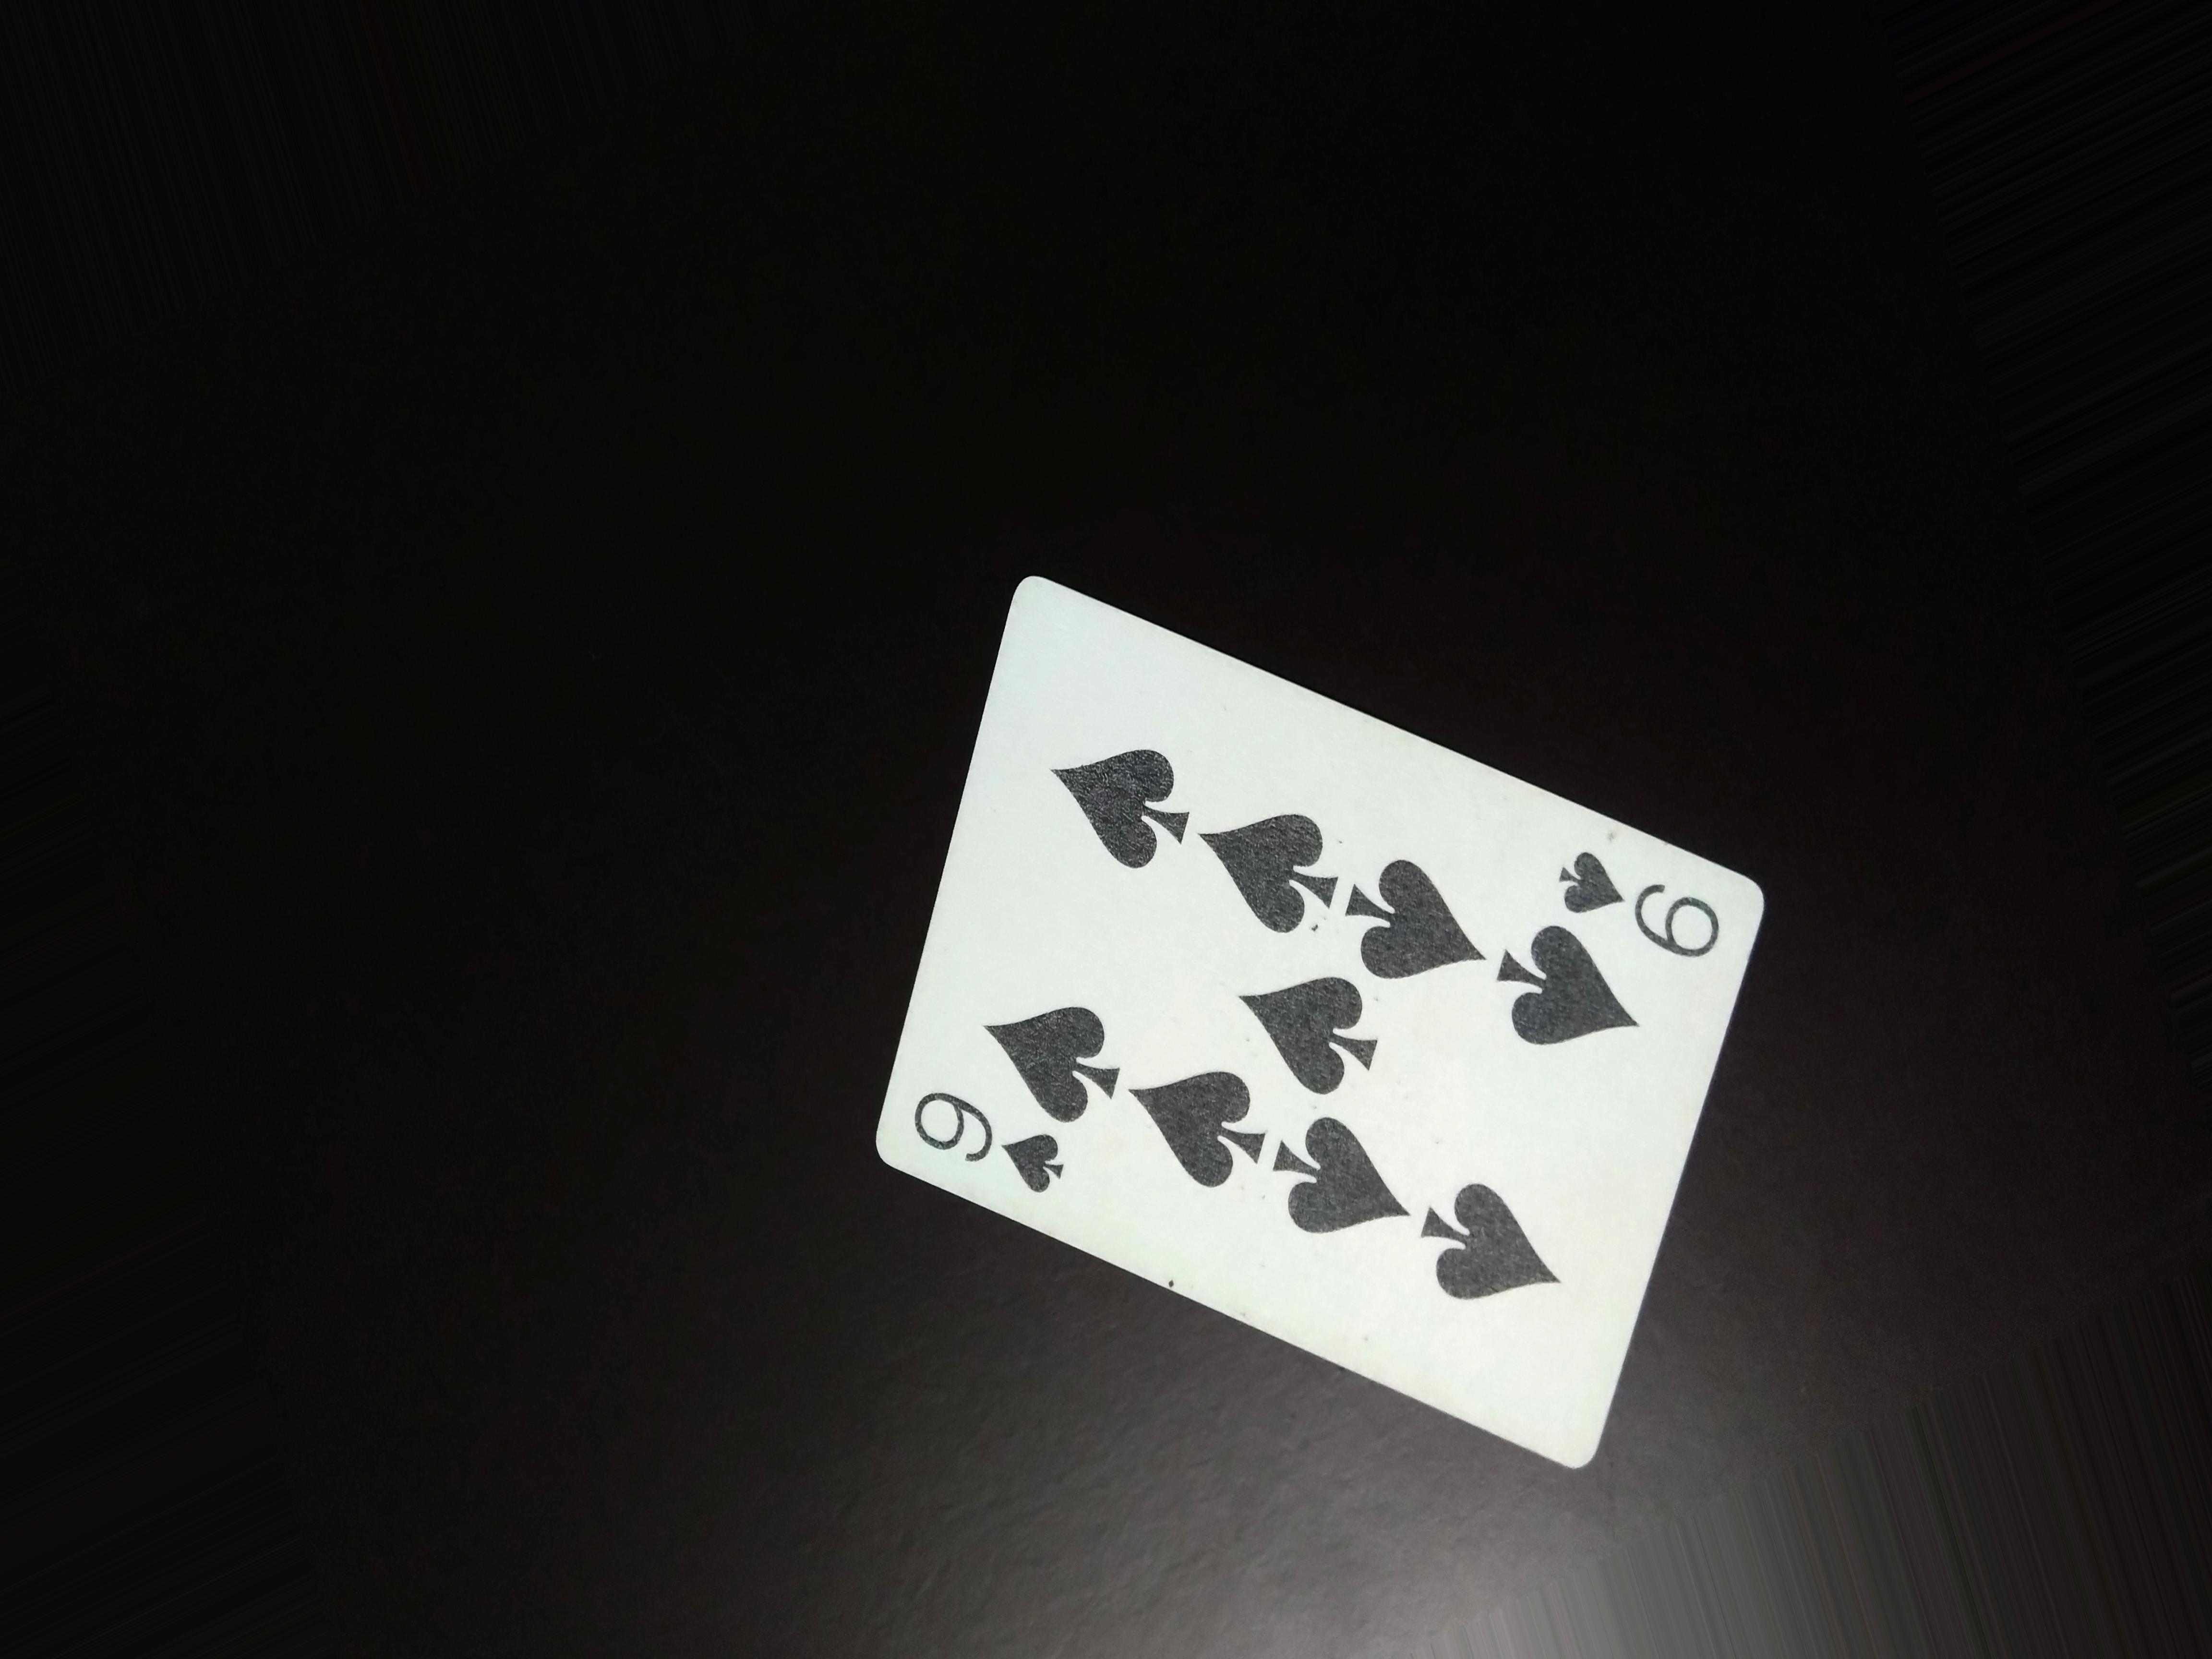9S: (1557, 840, 1733, 969)
